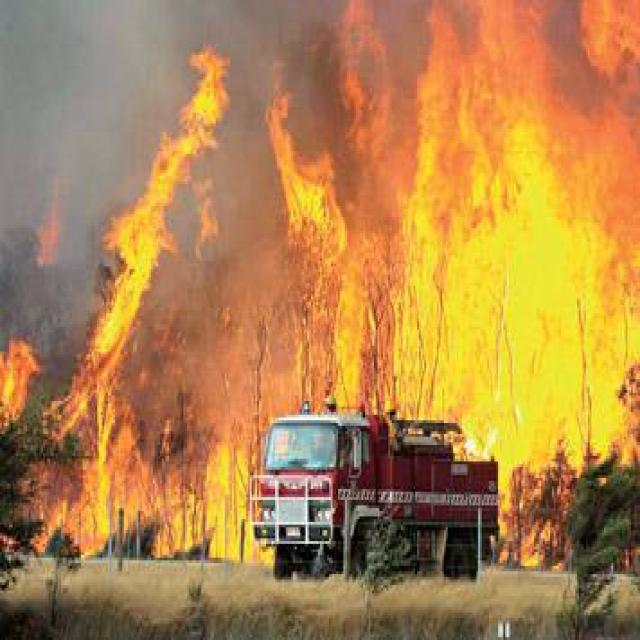fire: (272, 11, 636, 436), (60, 17, 248, 544), (492, 437, 565, 568), (0, 324, 45, 429)
